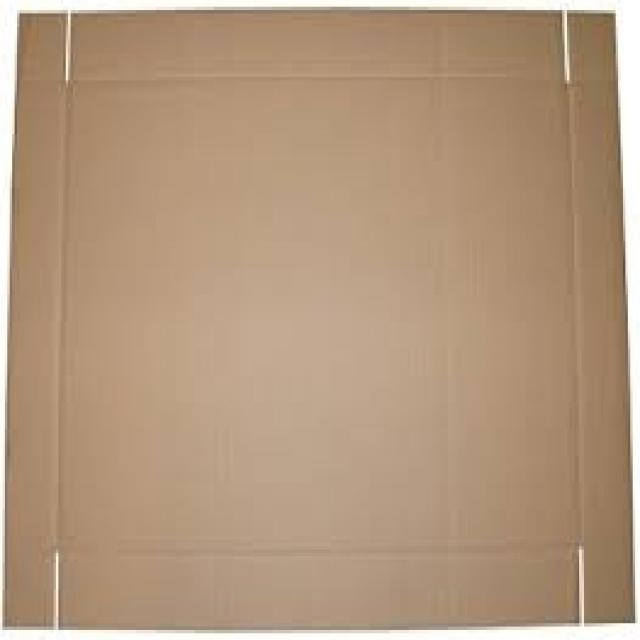cardboard paper: (5, 10, 632, 629)
